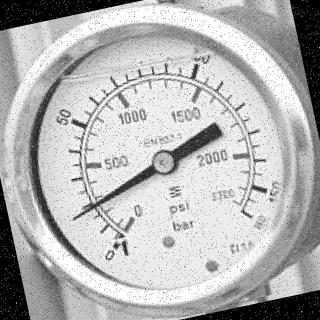gauge: (0, 4, 320, 320), (101, 217, 145, 264), (234, 201, 266, 235), (148, 146, 180, 178), (67, 208, 84, 226)
